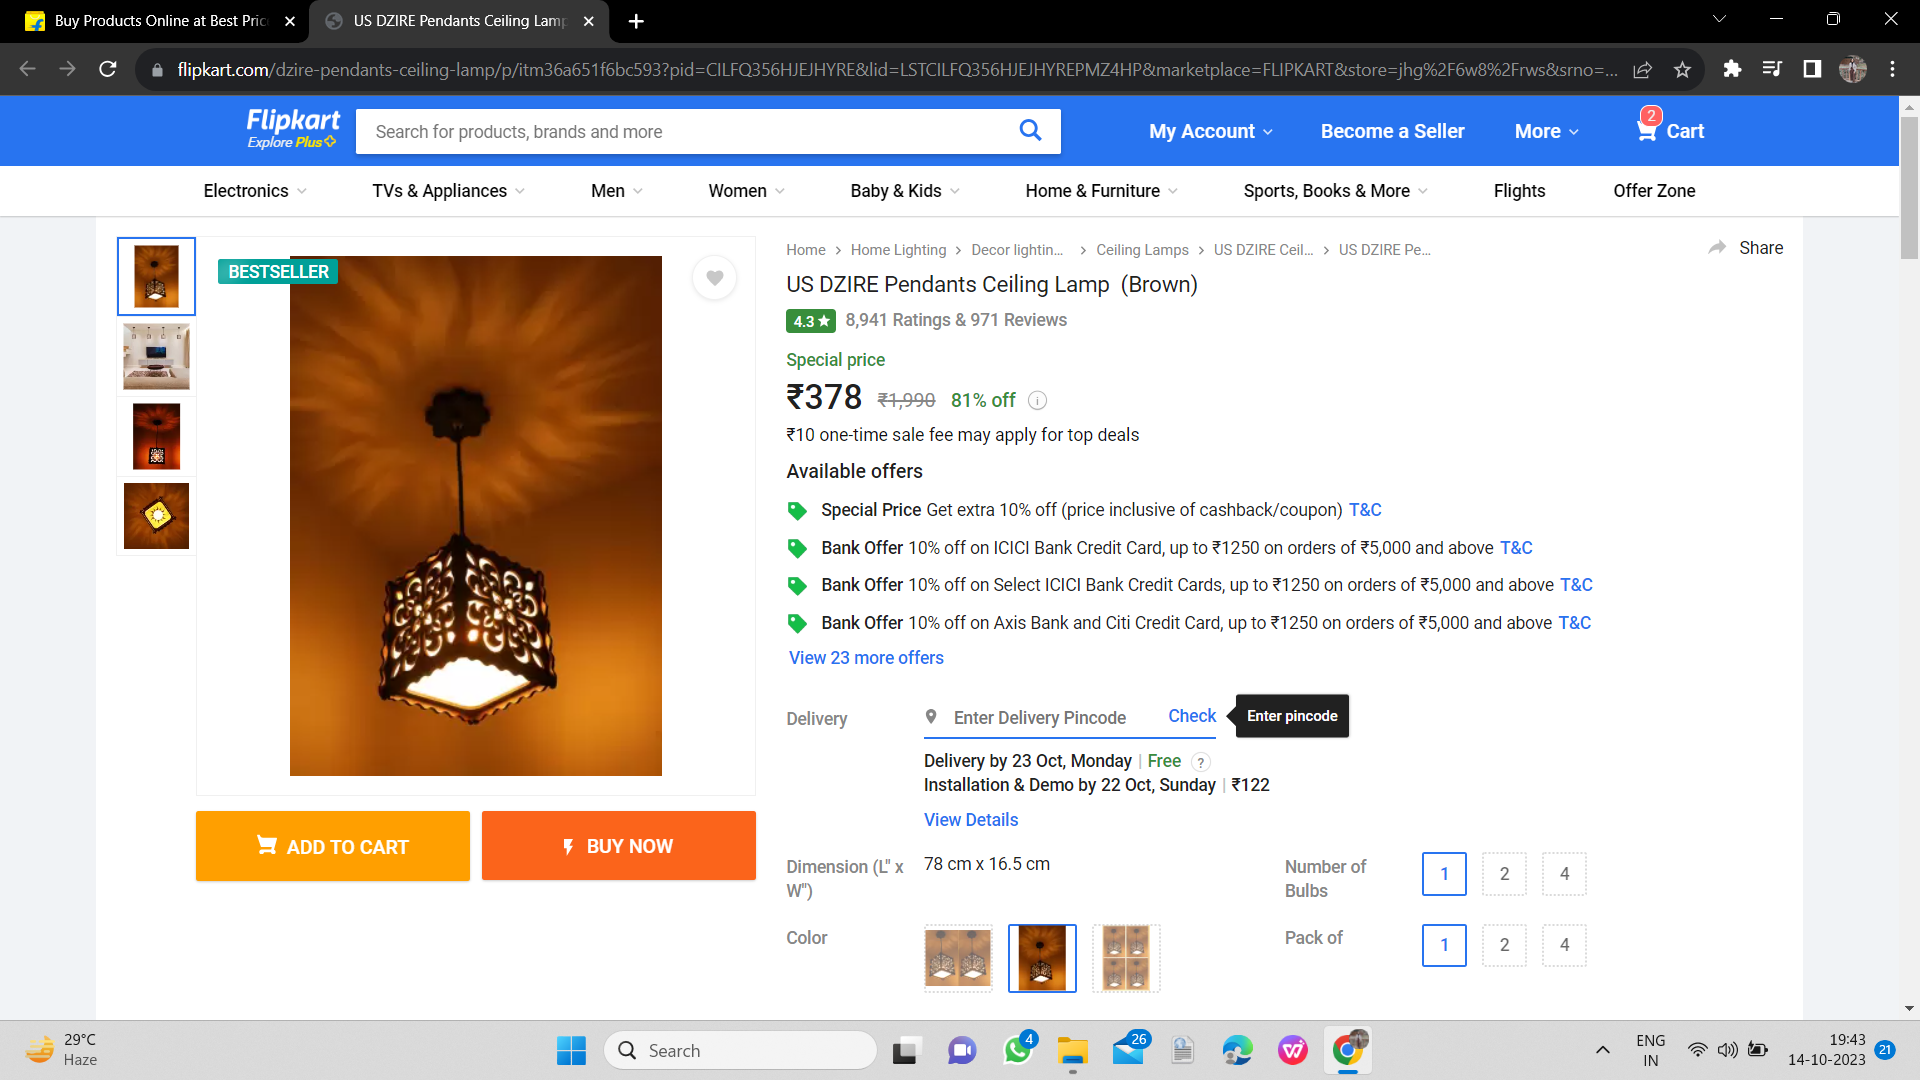Image: (211, 239, 761, 786), (895, 914, 1183, 1002)
Paragraph: (783, 496, 1619, 669), (175, 799, 766, 897), (1130, 109, 1716, 152), (907, 692, 1358, 741), (1262, 852, 1585, 913), (782, 345, 1025, 418), (1271, 923, 1602, 976), (782, 265, 1203, 301), (775, 856, 1058, 906), (773, 421, 1158, 452), (775, 303, 1075, 338), (778, 455, 934, 489), (914, 749, 1142, 771), (783, 699, 856, 741), (773, 923, 831, 951)
